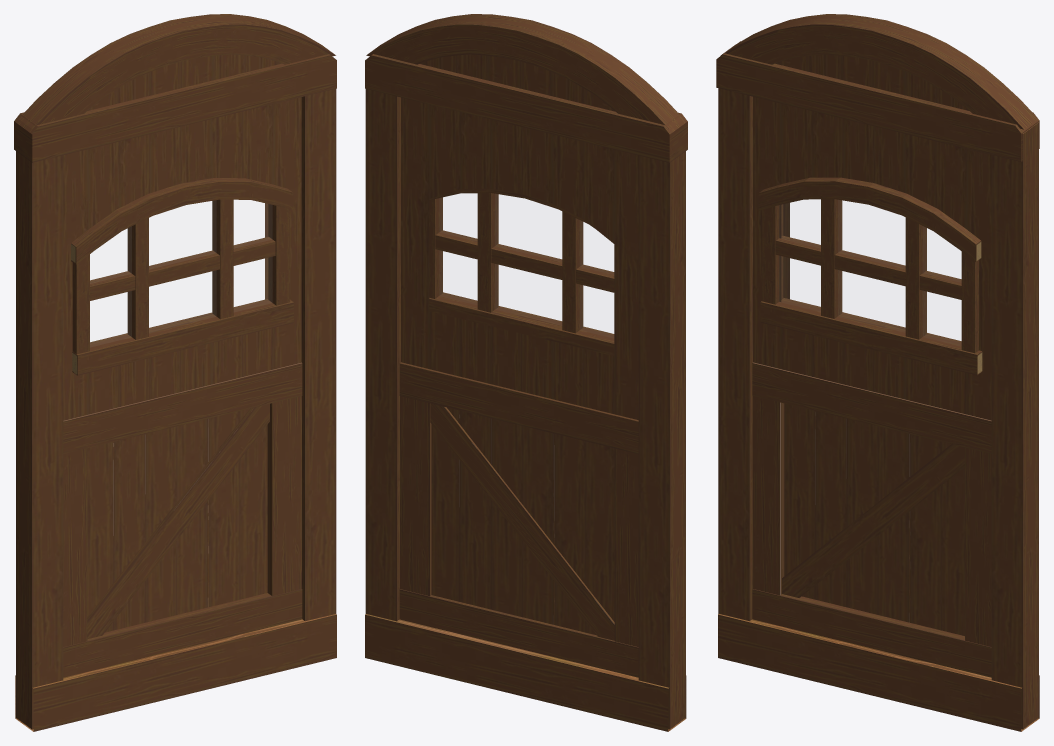
Rendered from Door_1_Round.glb.
3 renders of one model, left to right at view 1: azimuth 30°, elevation 25°; view 2: azimuth 150°, elevation 25°; view 3: azimuth 330°, elevation 25°, orthographic.
Visible parts, largest first — view 1: Door_1_Round; view 2: Door_1_Round; view 3: Door_1_Round.
Part boxes in pixels (bbox=[...]): Door_1_Round: bbox=[14, 14, 336, 731]; Door_1_Round: bbox=[365, 14, 687, 731]; Door_1_Round: bbox=[716, 14, 1039, 731].
Size of the model in its own units: 1.12 by 2.32 by 0.1206.
2 materials, 1 textured.
